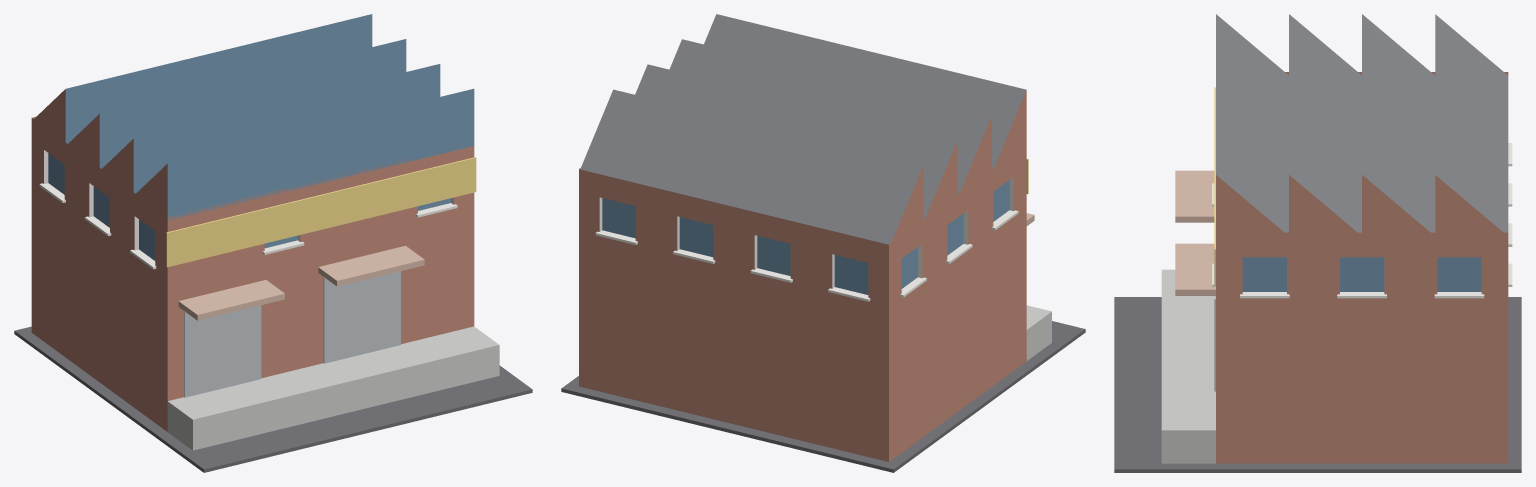
3 renders of one model, left to right at view 1: azimuth 30°, elevation 25°; view 2: azimuth 150°, elevation 25°; view 3: azimuth 270°, elevation 25°, orthographic. The views are drawn at different scales.
Visible parts, largest first — view 1: i_2_1_a; view 2: i_2_1_a; view 3: i_2_1_a.
Part boxes in pixels (x1,y1,x2,y2): i_2_1_a: (14, 14, 532, 472); i_2_1_a: (561, 14, 1085, 472); i_2_1_a: (1114, 14, 1521, 472).
Bounding box in the file's own units: 12 × 9.5 × 12.
